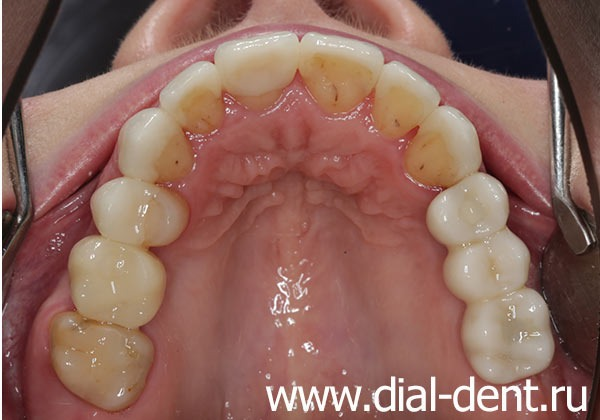UL1BC_healthy: (428, 175, 507, 243)
UL1M_healthy: (465, 290, 554, 374)
UL2BC_healthy: (444, 231, 530, 295)
ULCI_decay: (299, 34, 379, 110)
ULC_decay: (411, 107, 481, 188)
ULLI_decay: (377, 61, 439, 140)
UR1BC_healthy: (91, 179, 185, 245)
UR1M_decay: (54, 322, 149, 408)
UR2BC_healthy: (70, 238, 161, 325)
URCI_healthy: (218, 34, 298, 103)
URC_healthy: (119, 108, 190, 182)
URLI_healthy: (162, 62, 219, 127)
